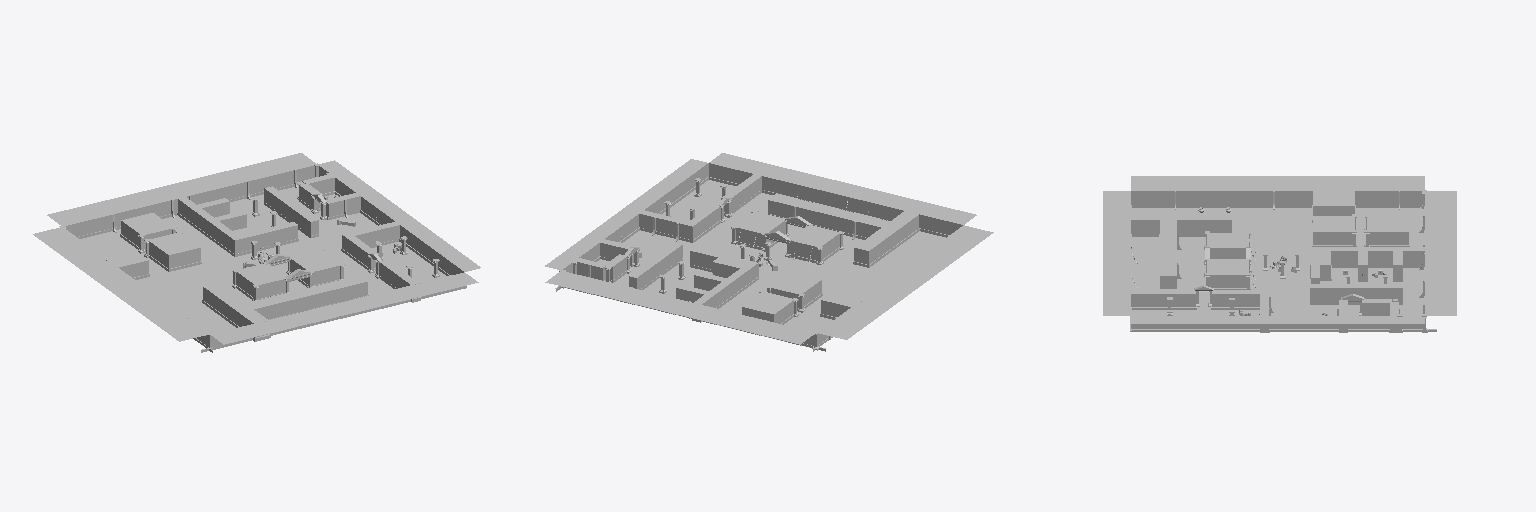
File: Mazmorra.obj
3 renders of one model, left to right at view 1: azimuth 30°, elevation 25°; view 2: azimuth 150°, elevation 25°; view 3: azimuth 270°, elevation 25°, orthographic.
Parts seen in each view (by area): view 1: Mazmorra_test_Plane; view 2: Mazmorra_test_Plane; view 3: Mazmorra_test_Plane.
Part boxes in pixels (left/top/right/bottom): Mazmorra_test_Plane: left=33, top=153, right=480, bottom=352; Mazmorra_test_Plane: left=545, top=153, right=993, bottom=351; Mazmorra_test_Plane: left=1103, top=176, right=1456, bottom=332.
Size of the model in its own units: 19.53 by 1.38 by 19.83.